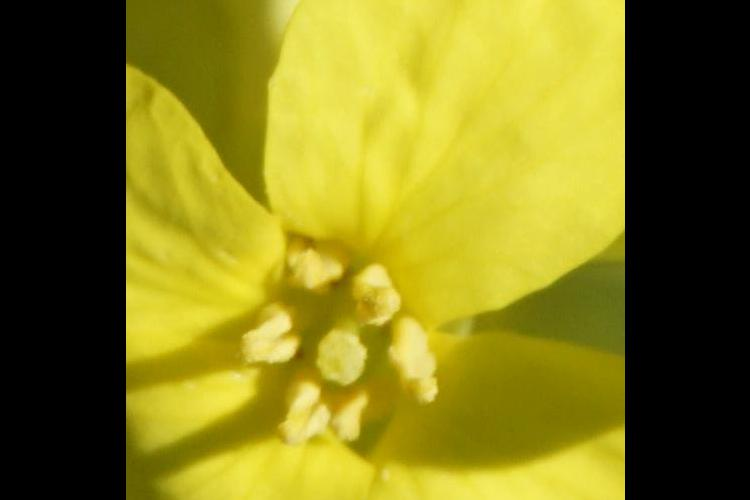yellow: (135, 1, 621, 500)
